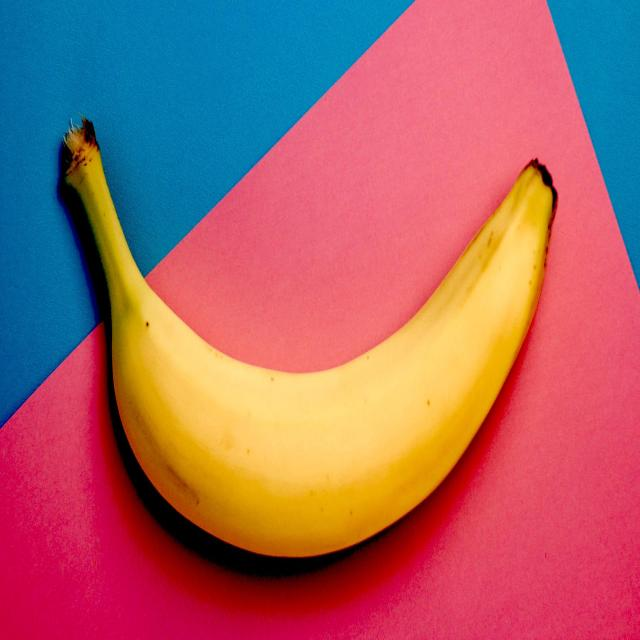banana: (55, 110, 562, 564)
